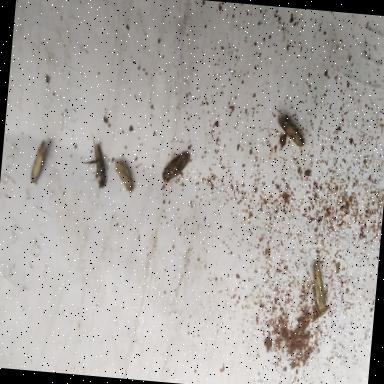pbw: (78, 132, 112, 192), (272, 109, 308, 149), (309, 261, 331, 314), (161, 148, 190, 188), (112, 154, 136, 196), (30, 140, 46, 186)
